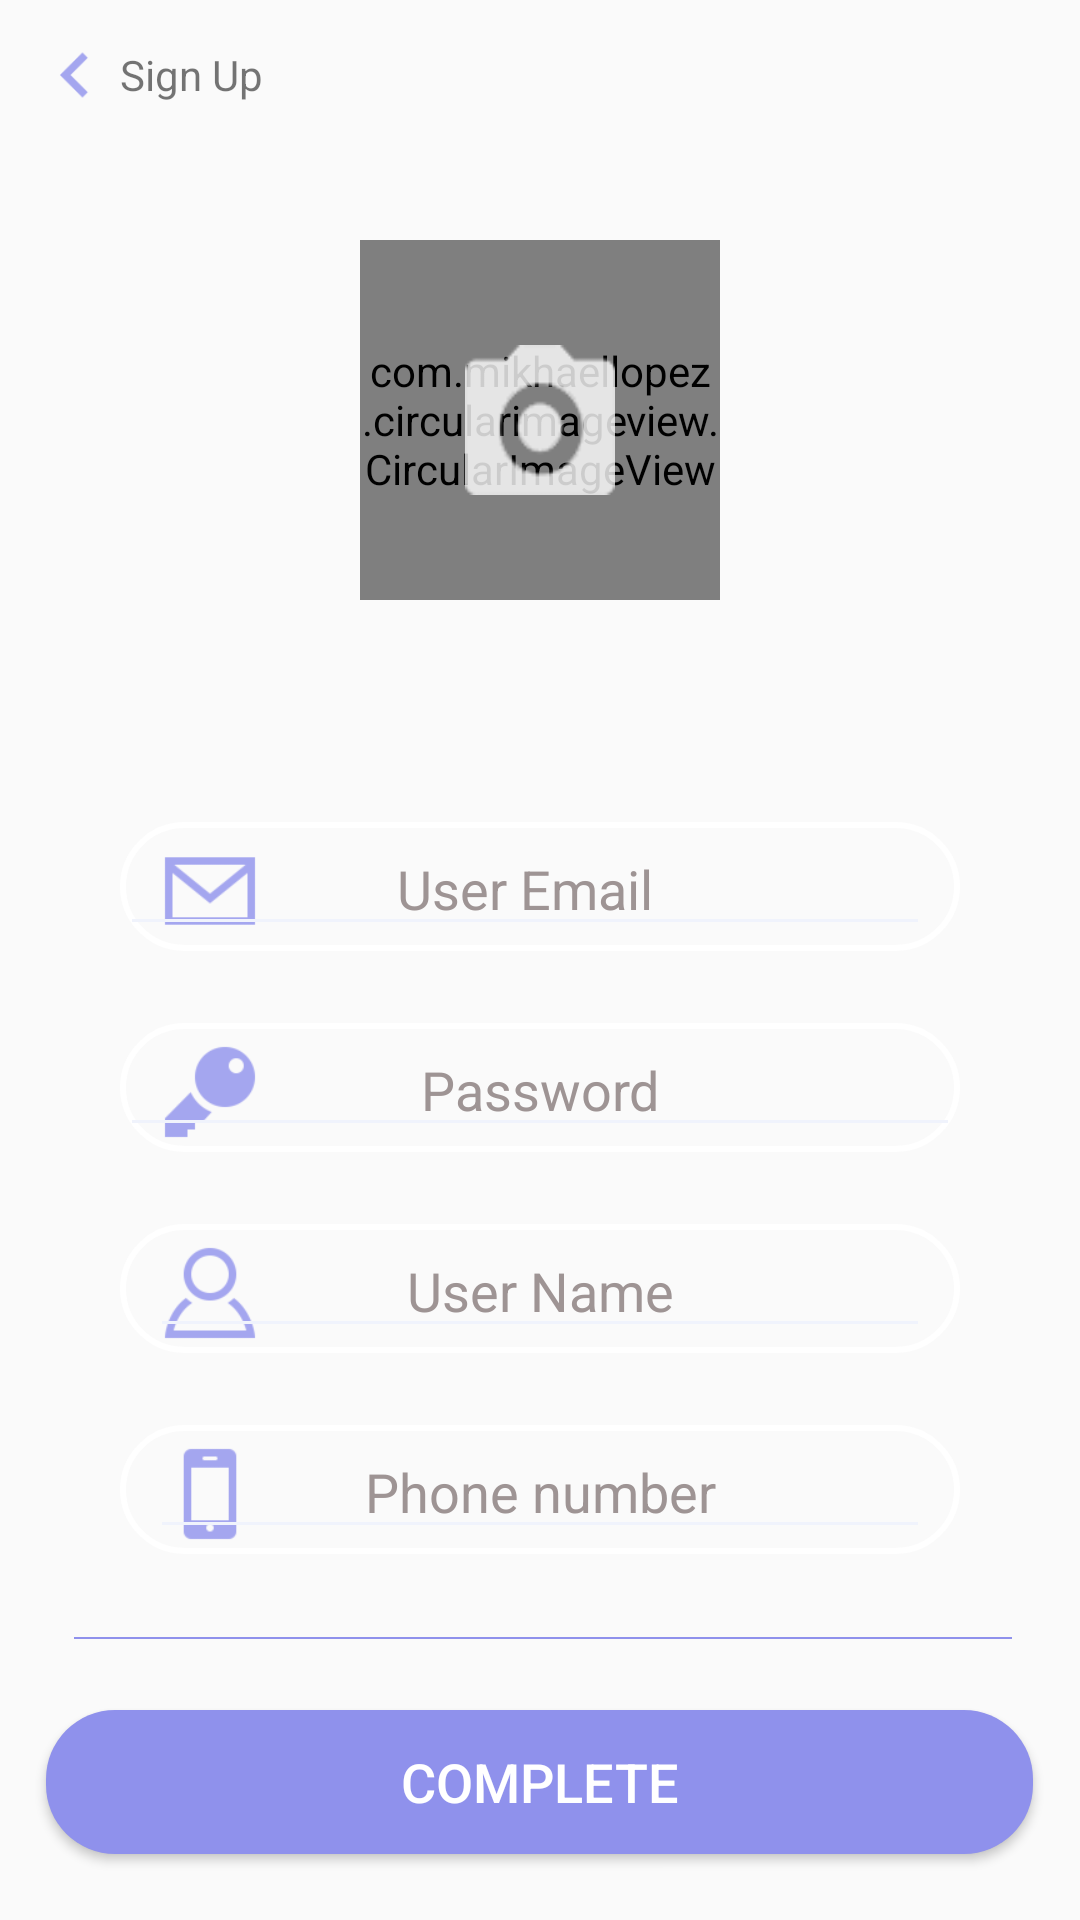

Icon click points for this 1080w x 1920h phone screenshot, format (x,y):
back: (74,75)
camera: (540,420)
passwd: (210,1092)
